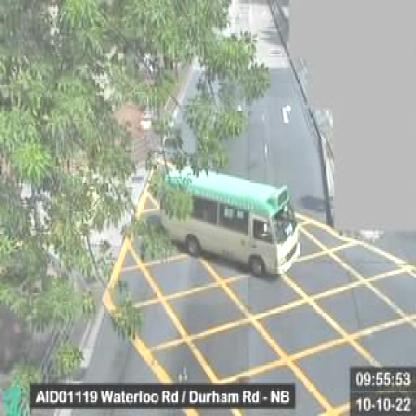Minibus: (159, 166, 301, 280)
